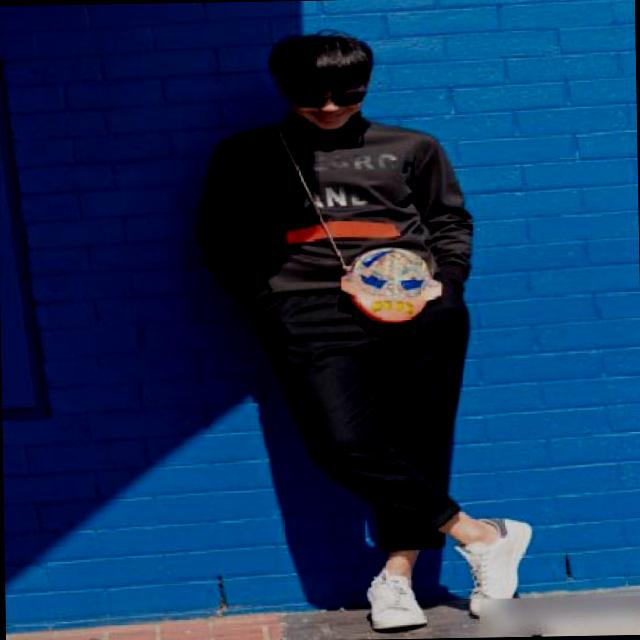Person: (177, 16, 571, 640)
